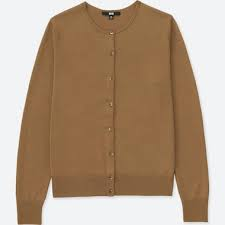C_cardigan sweater: (14, 6, 224, 221)
